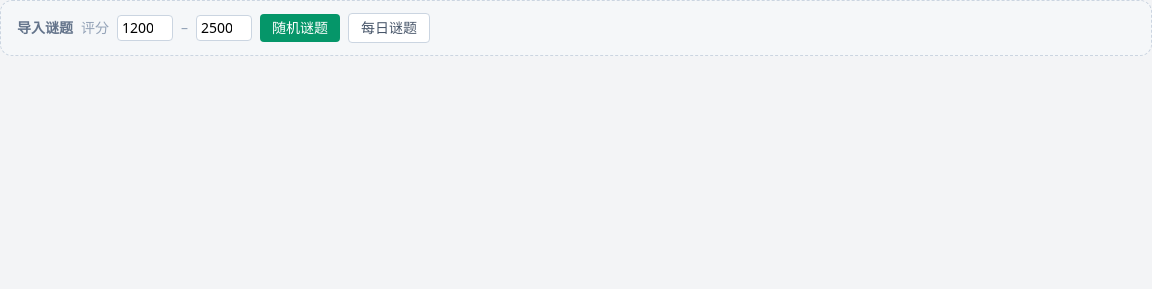
PuzzleImporter › imports a puzzle and reveals the complete answer on demand
This screenshot has width=1152, height=289.
Click the button "随机谜题": (300, 28) [260,14,340,42]
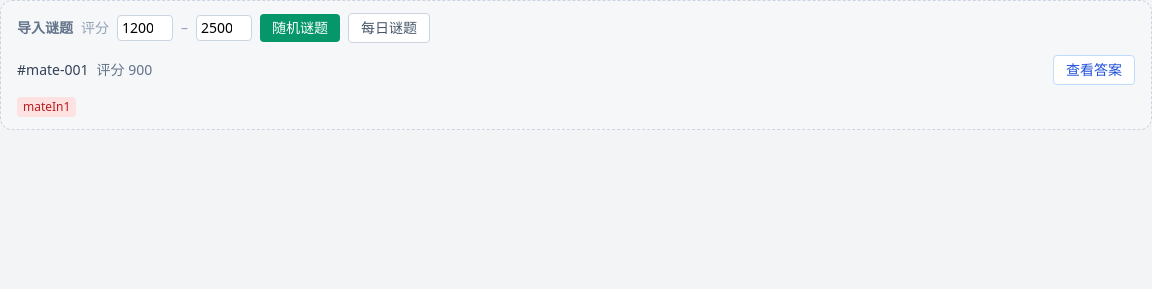
Expected: the text "完整答案" is not shown
Expected: the button "查看答案" is enabled
Click the button "查看答案": (1094, 70) [1053,55,1135,85]
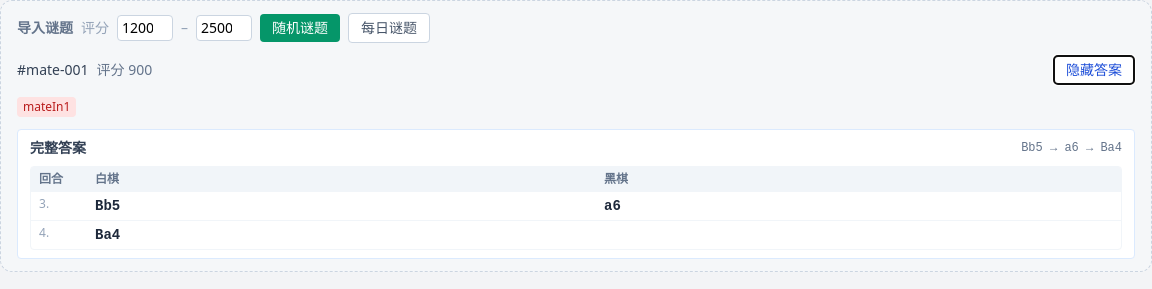
Expected: the text "完整答案" is shown, [30,138,86,158]
Expected: the text "回合" is shown, [39,170,63,187]
Expected: the text "白棋" is shown, [95,170,119,187]
